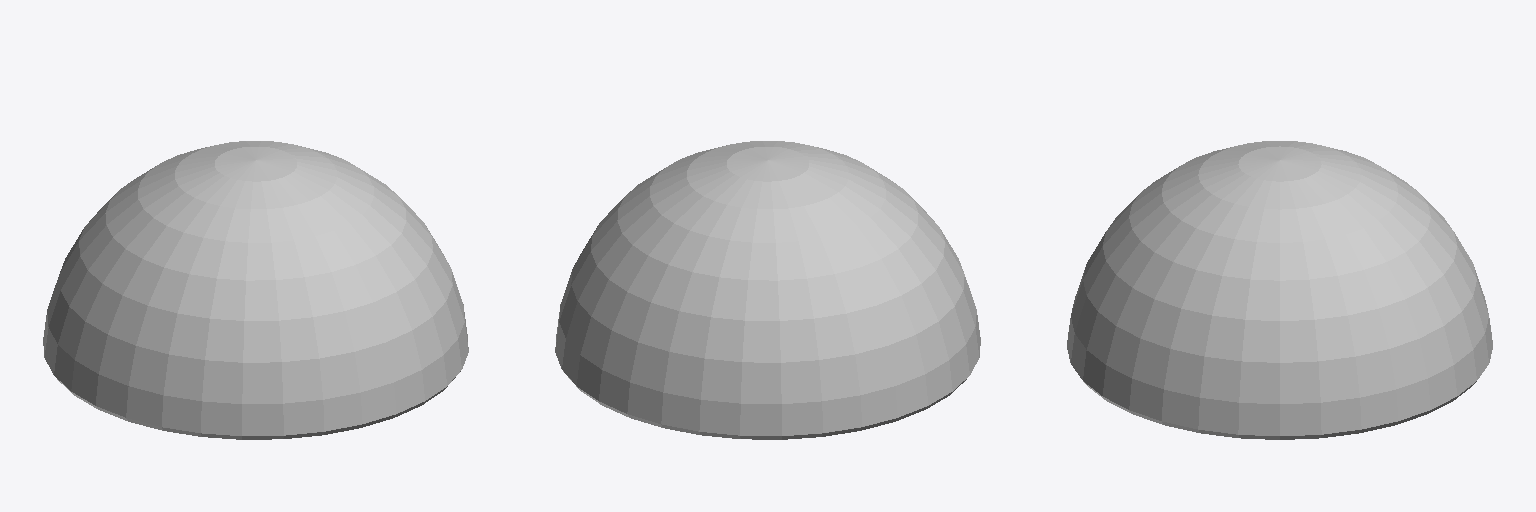
File: blender_v2_finish.obj
3 views of the same model, side by side, from view 1: azimuth 30°, elevation 25°; view 2: azimuth 150°, elevation 25°; view 3: azimuth 270°, elevation 25° (orthographic).
Visible parts, largest first — view 1: Sphère_Sphère_Matériau; view 2: Sphère_Sphère_Matériau; view 3: Sphère_Sphère_Matériau.
Boxes of the visible parts, box(x1,y1,x2,y2) form: Sphère_Sphère_Matériau: box(43, 141, 468, 439); Sphère_Sphère_Matériau: box(555, 141, 980, 439); Sphère_Sphère_Matériau: box(1067, 141, 1492, 439).
Bounding box in the file's own units: 40.75 × 20.16 × 40.75.